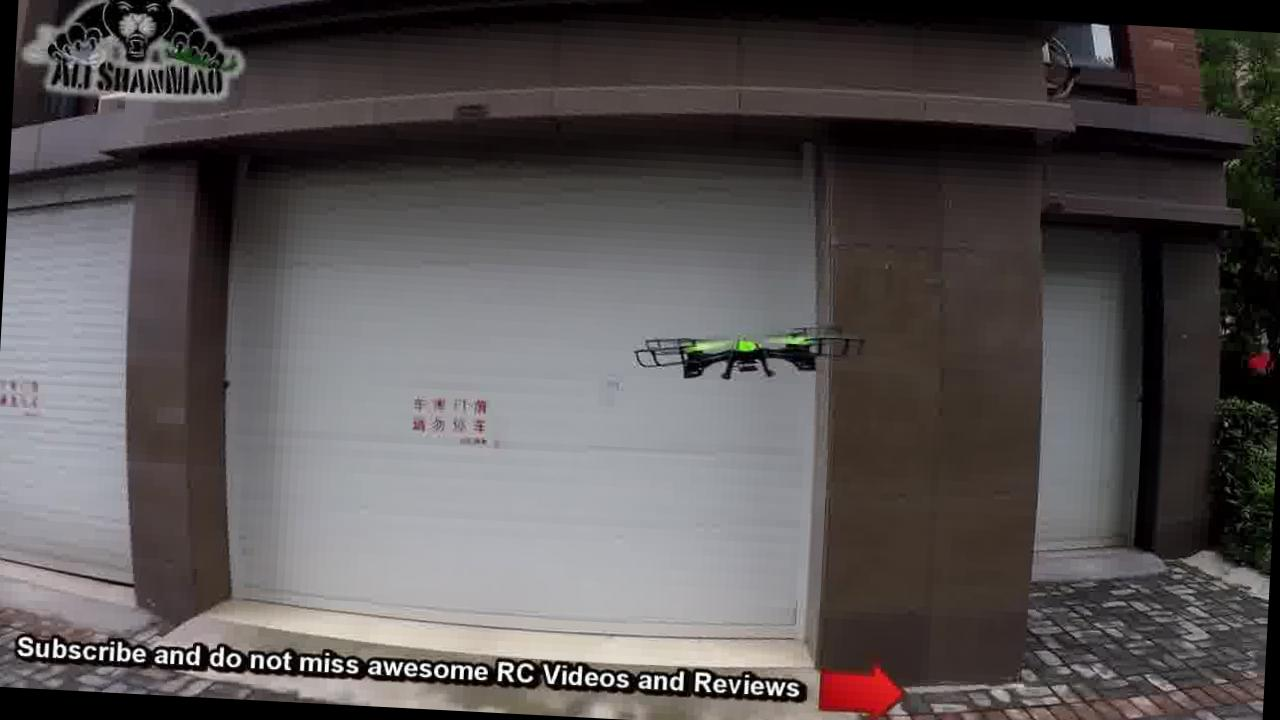drone: (623, 314, 866, 393)
